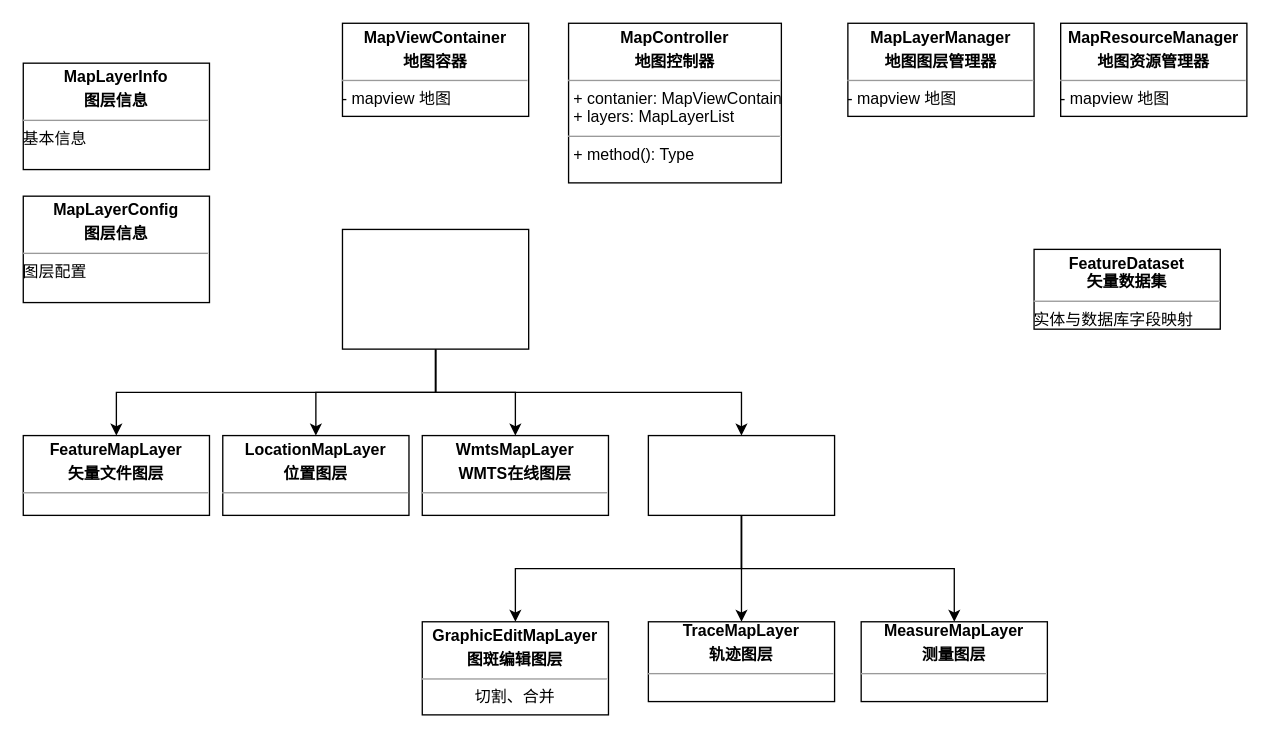
Some shapes in this 1270 by 738 pixel diagram are drawn without their labels. The shapes that lost their labels are listed below. From the top down, each one's centre as x and y in pixels, then its label:
point (435, 288): MapLayer 地图图层 + layerInfo 图层信息 + config 图层配置
point (741, 474): Graphic MapLayer 矢量编辑图层
